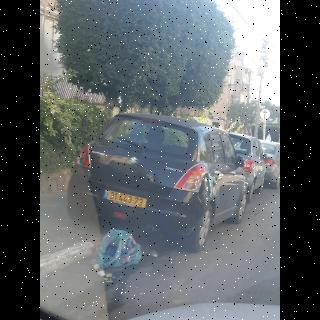LicensePlate: (107, 190, 147, 208)
